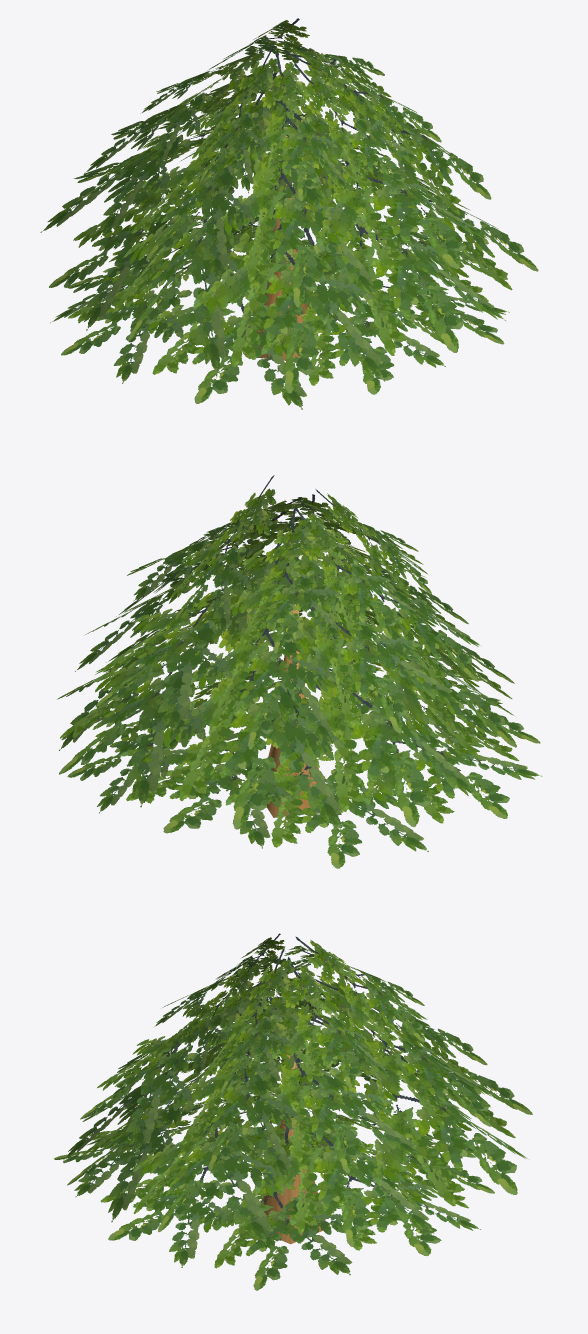
The model's file is Cespuglio1.glb.
The picture shows the model from 3 angles, top to bottom: view 1: azimuth 30°, elevation 25°; view 2: azimuth 150°, elevation 25°; view 3: azimuth 270°, elevation 25°; orthographic projection. The views are drawn at different scales.
Parts seen in each view (by area): view 1: Cespuglio_01; view 2: Cespuglio_01; view 3: Cespuglio_01.
Boxes of the visible parts, bbox=[...] form: Cespuglio_01: bbox=[40, 18, 538, 409]; Cespuglio_01: bbox=[57, 475, 542, 868]; Cespuglio_01: bbox=[54, 933, 532, 1290].
Size of the model in its own units: 3.22 by 2.03 by 3.36.
Materials: 1 (1 with a texture image).
